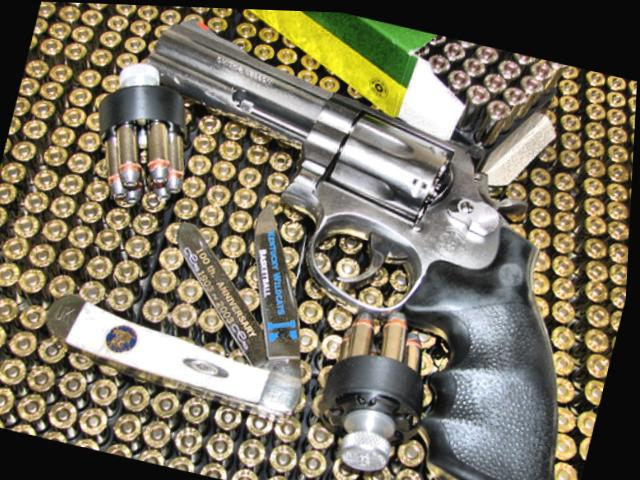pistol: (53, 2, 640, 480)
